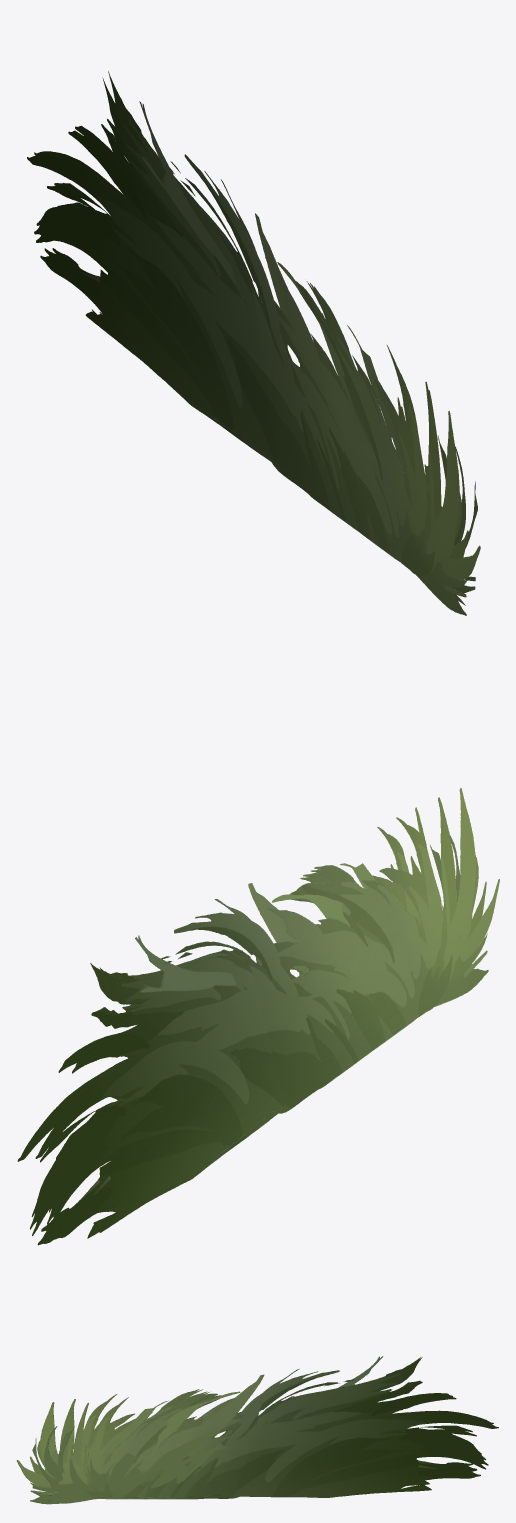
File: TallGrassPack.fbx
3 views of the same model, one above another, from view 1: azimuth 30°, elevation 25°; view 2: azimuth 150°, elevation 25°; view 3: azimuth 270°, elevation 25° (orthographic). The views are drawn at different scales.
Visible parts, largest first — view 1: TallGrass1, TallGrass2; view 2: TallGrass2, TallGrass1; view 3: TallGrass2, TallGrass1.
Part boxes in pixels (bbox=[...]): TallGrass1: bbox=[27, 77, 477, 605]; TallGrass2: bbox=[34, 71, 480, 615]; TallGrass2: bbox=[17, 788, 499, 1245]; TallGrass1: bbox=[35, 807, 460, 1239]; TallGrass2: bbox=[16, 1357, 498, 1504]; TallGrass1: bbox=[32, 1356, 493, 1503].
Size of the model in its own units: 37.9 by 325 by 933.
2 materials, 2 textured.
